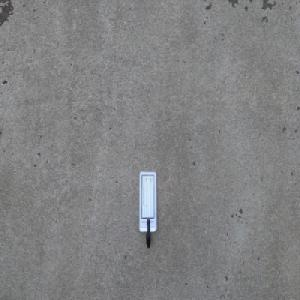LuggageTag: (138, 170, 157, 249)
